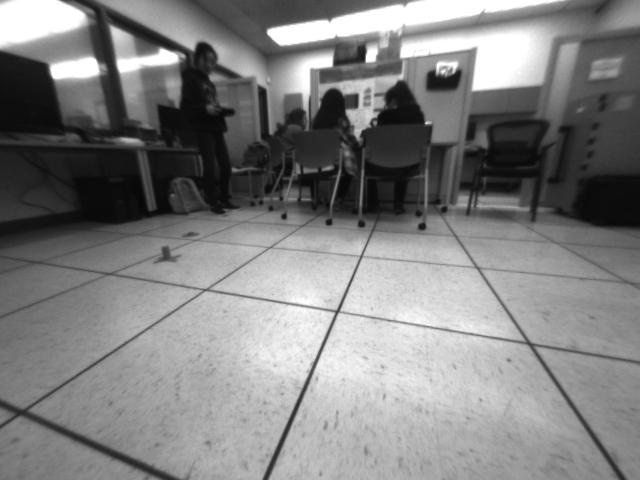X: (152, 245, 182, 265)
